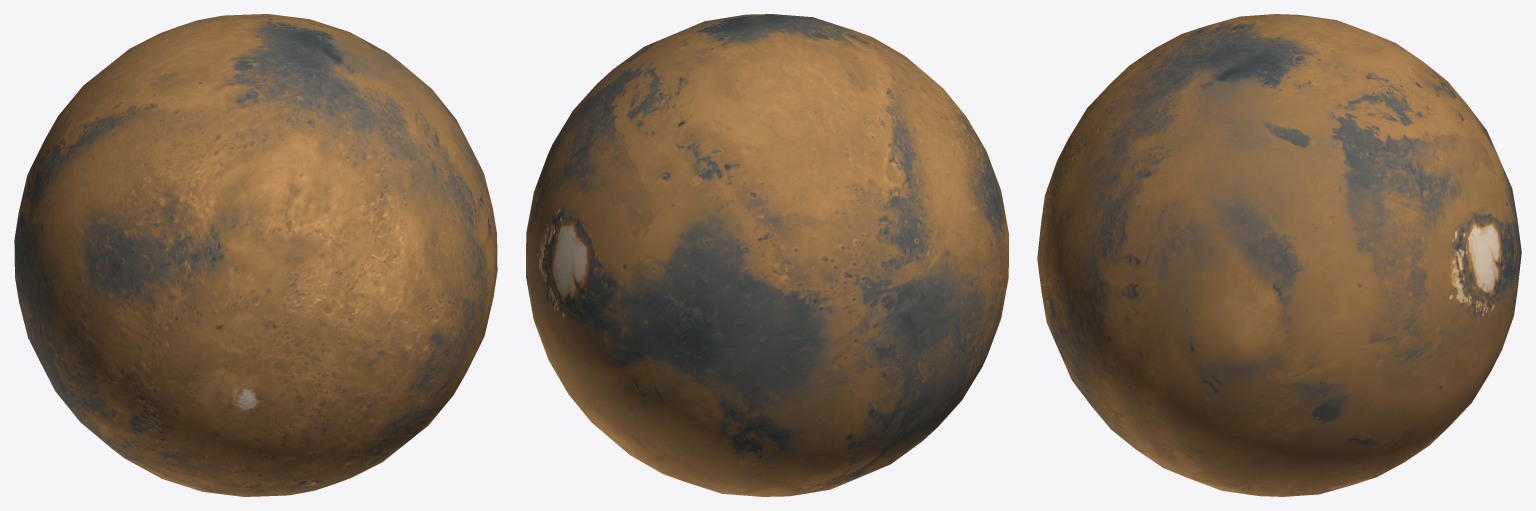
Rendered from Mars_2K.obj.
The picture shows the model from 3 angles, left to right: view 1: azimuth 30°, elevation 25°; view 2: azimuth 150°, elevation 25°; view 3: azimuth 270°, elevation 25°; orthographic projection.
Parts seen in each view (by area): view 1: Mars_Cube.002; view 2: Mars_Cube.002; view 3: Mars_Cube.002.
Part boxes in pixels (x1,y1,x2,y2): Mars_Cube.002: [14, 14, 497, 496]; Mars_Cube.002: [526, 14, 1008, 496]; Mars_Cube.002: [1037, 14, 1521, 496].
Bounding box in the file's own units: 33491 × 33447 × 33558.
1 material, 1 textured.
